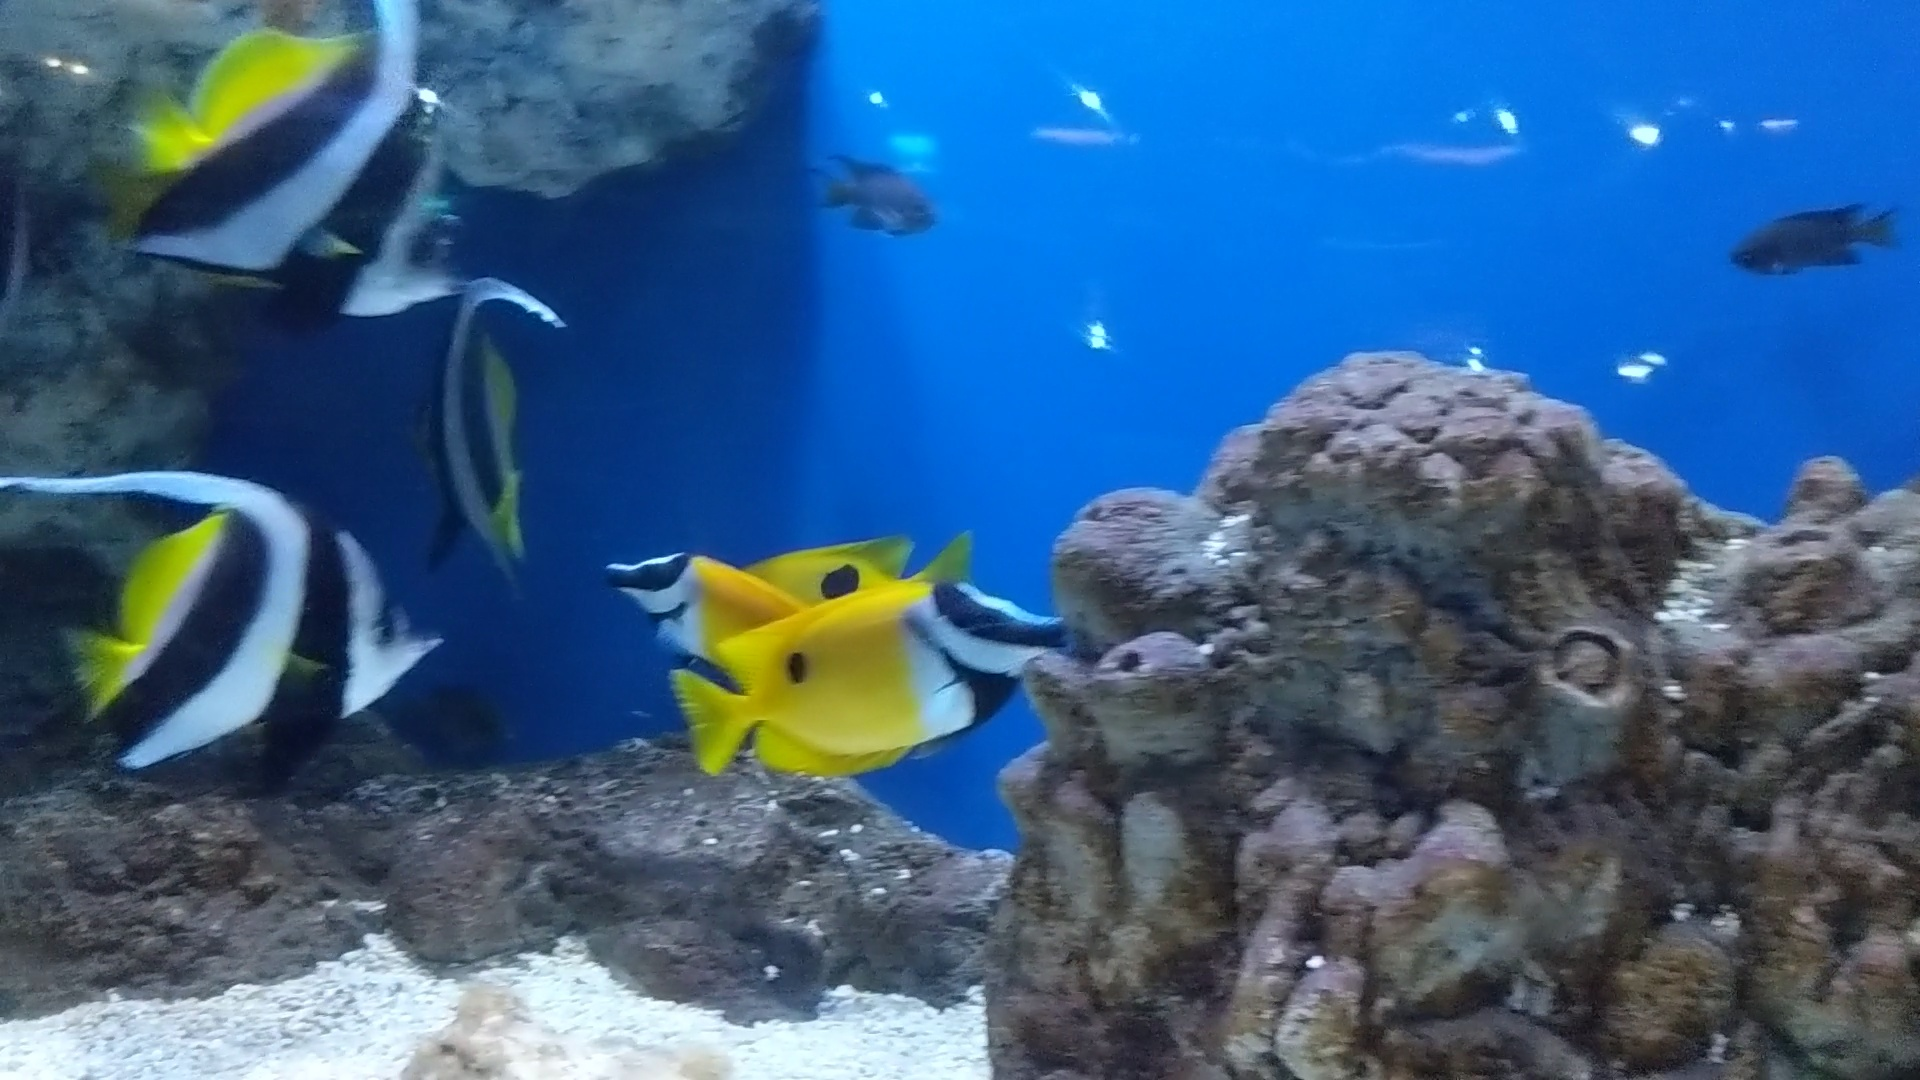moorfish: (15, 448, 467, 828), (57, 11, 479, 313), (402, 251, 564, 596)
rabbitfish: (669, 603, 1056, 793), (568, 518, 800, 673)
